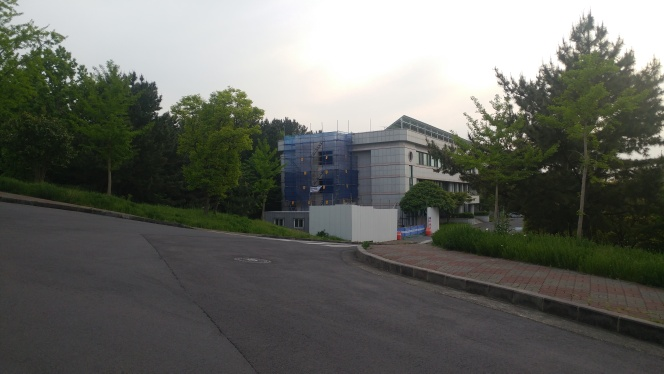Information Telecommunication Center: (280, 117, 488, 241), (355, 127, 471, 199), (367, 133, 412, 194)
